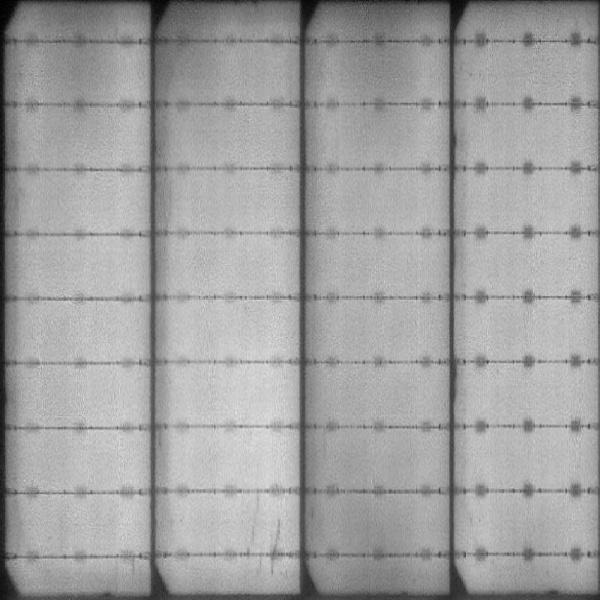scratch: (265, 518, 281, 578)
